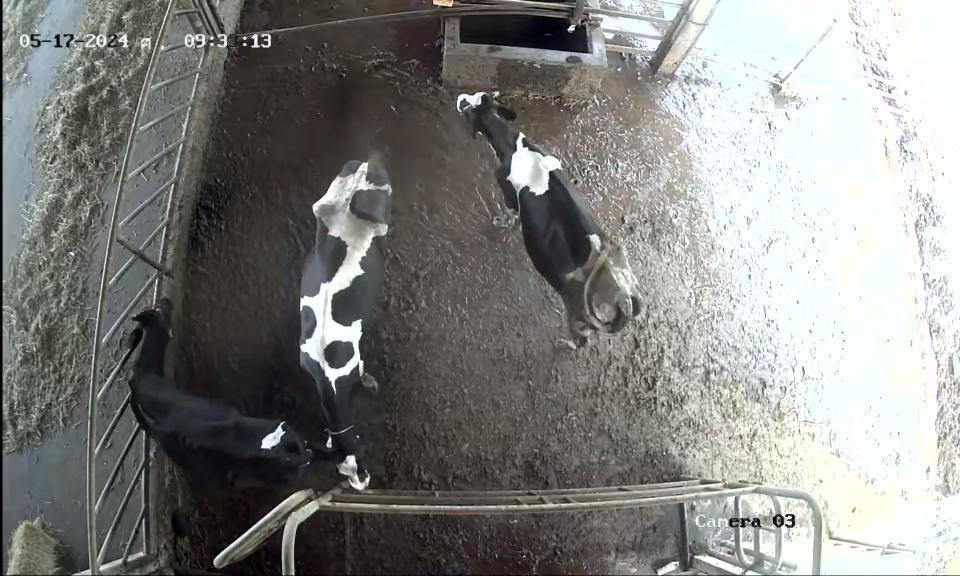stand: (452, 84, 649, 358), (293, 136, 412, 496), (127, 292, 309, 501)
